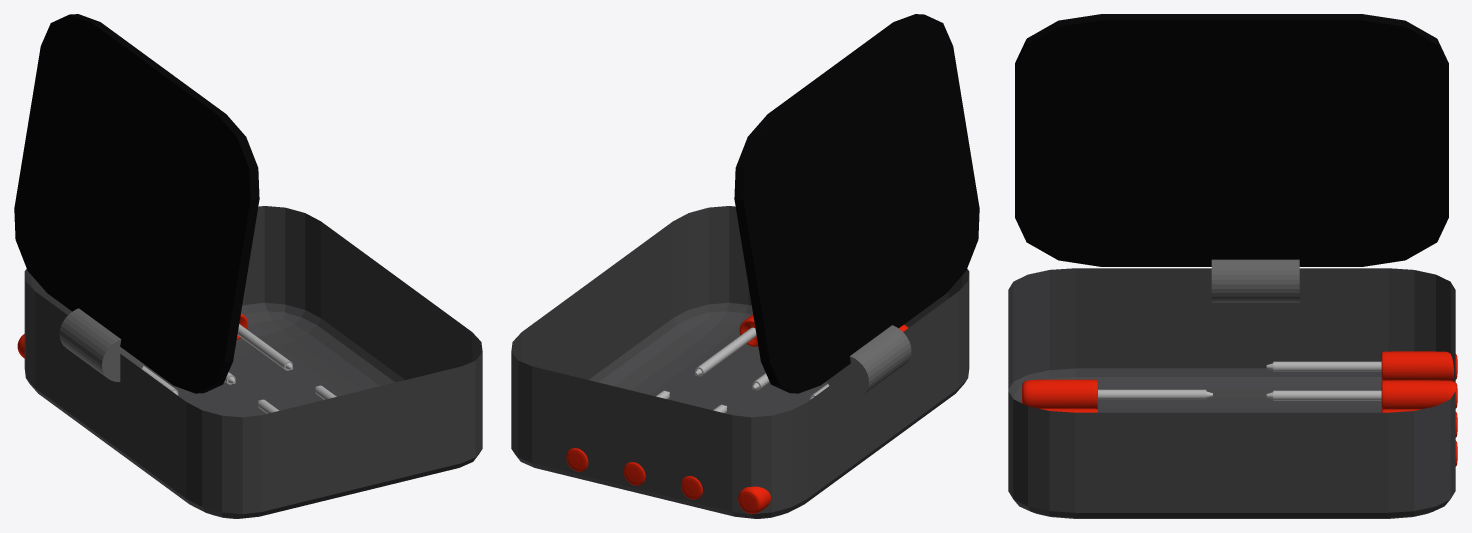
Rendered from screwdriver box.fbx.
3 renders of one model, left to right at view 1: azimuth 30°, elevation 25°; view 2: azimuth 150°, elevation 25°; view 3: azimuth 270°, elevation 25°, orthographic. The views are drawn at different scales.
Visible parts, largest first — view 1: Cube, Cube.001, Cylinder.004, Cylinder.001; view 2: Cube, Cube.001, Cylinder.004, Cylinder, Cylinder.003; view 3: Cube.001, Cube, Cylinder, Cylinder.004, Cylinder.001, Cylinder.002, Cylinder.003.
Part boxes in pixels (bbox=[...]): Cube: bbox=[24, 206, 482, 518]; Cube.001: bbox=[14, 14, 259, 393]; Cylinder.004: bbox=[59, 308, 143, 381]; Cylinder.001: bbox=[142, 324, 292, 395]; Cube: bbox=[511, 206, 969, 518]; Cube.001: bbox=[734, 14, 979, 393]; Cylinder.004: bbox=[827, 325, 911, 398]; Cylinder: bbox=[566, 448, 770, 513]; Cylinder.003: bbox=[694, 327, 829, 399]; Cube.001: bbox=[1015, 14, 1448, 266]; Cube: bbox=[1008, 268, 1455, 518]; Cylinder: bbox=[1381, 351, 1457, 466]; Cylinder.004: bbox=[1211, 259, 1299, 302]; Cylinder.001: bbox=[1266, 361, 1381, 400]; Cylinder.002: bbox=[1022, 379, 1097, 412]; Cylinder.003: bbox=[1098, 389, 1212, 399].
Bounding box in the file's own units: 319 × 381 × 394.
